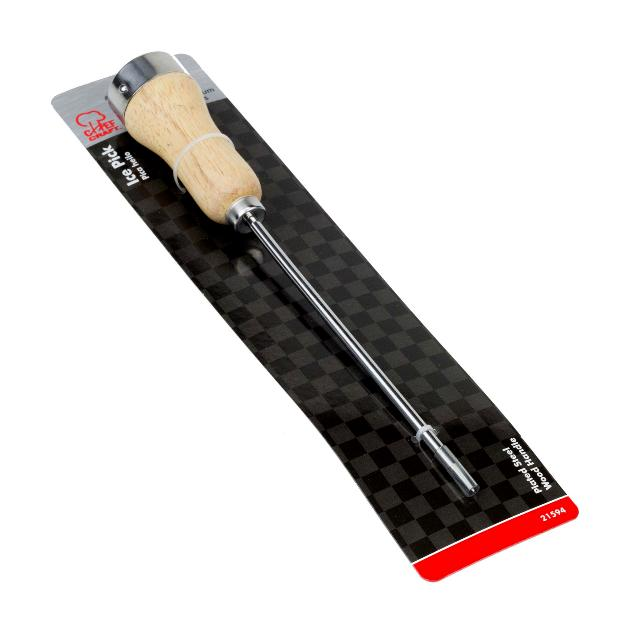ice pick: (107, 50, 480, 498)
